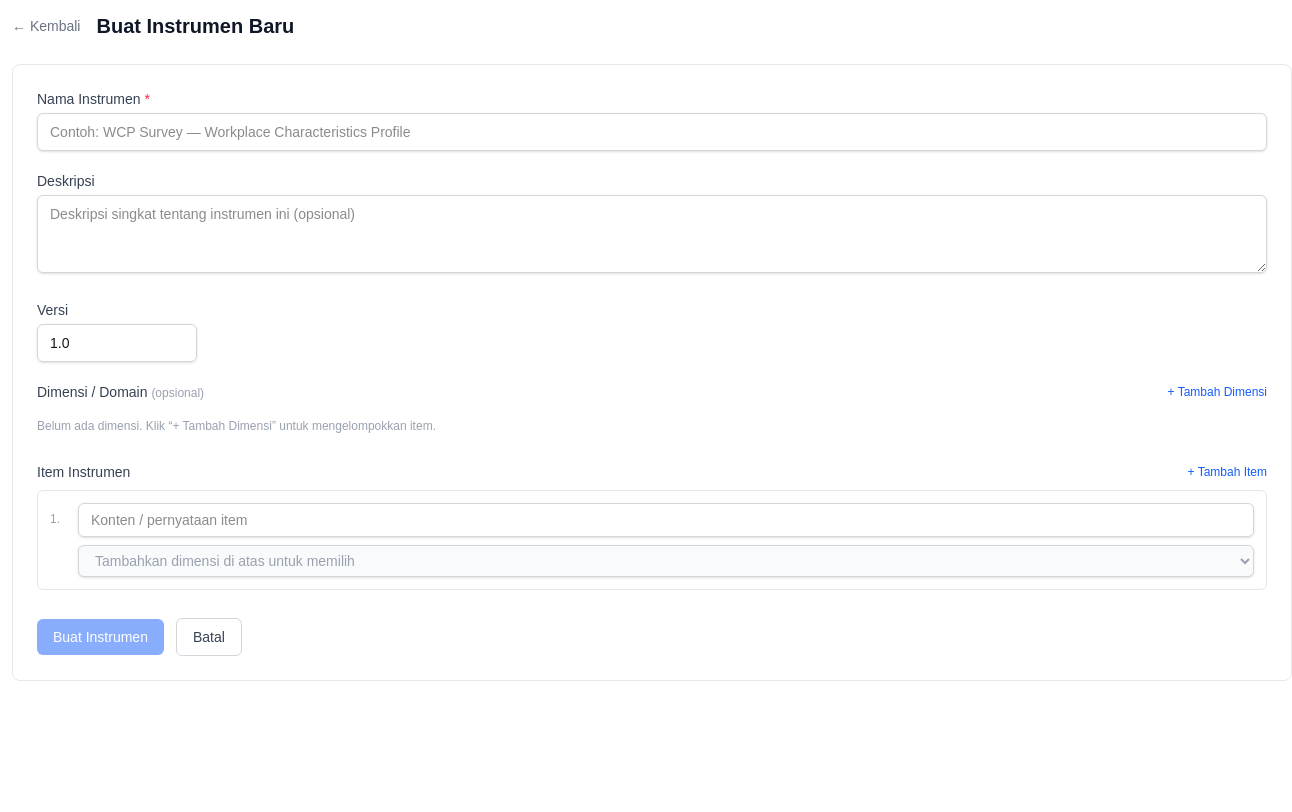
NewInstrumentPage › harus menampilkan error jika pembuatan item gagal (step 3)
Type "Instrumen #1" into the field labelled "Nama Instrumen *" at (652,132), box 37,113 -> 1267,151
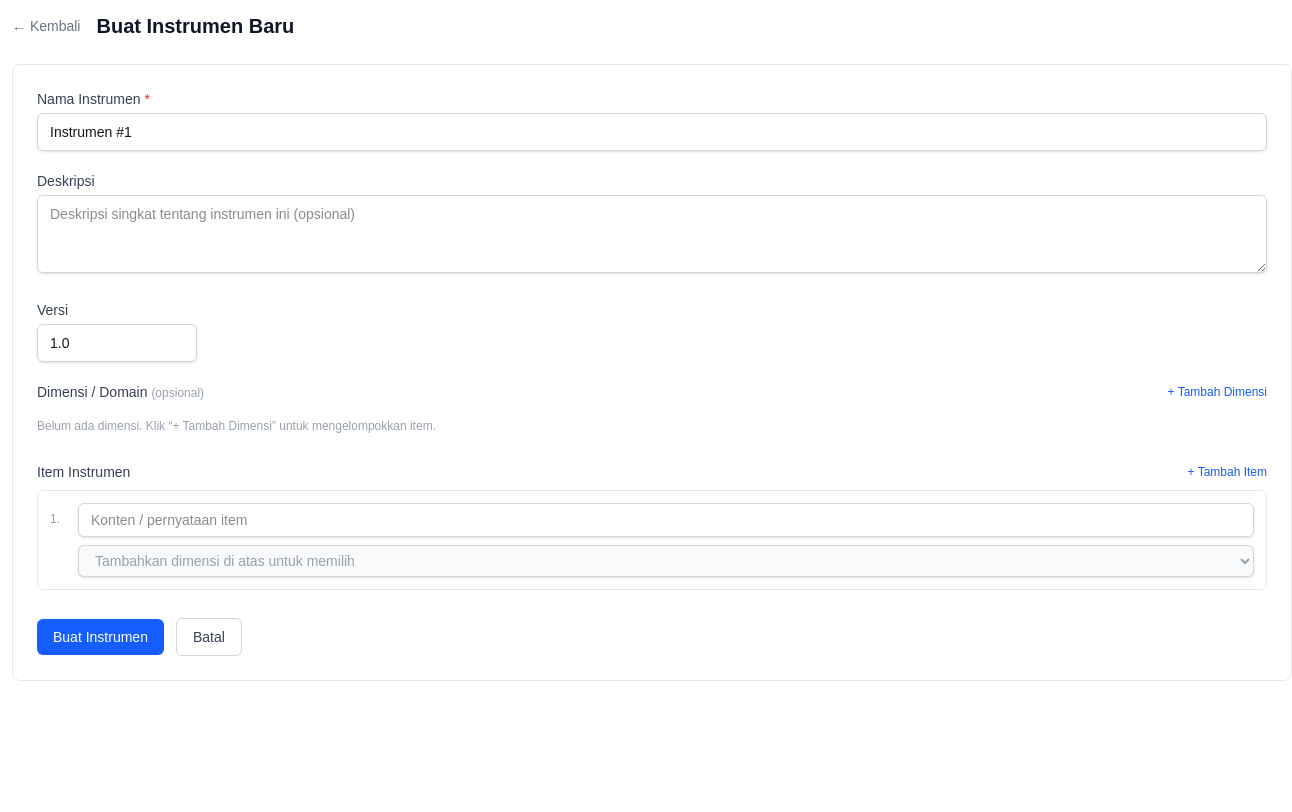
Isi item default (placeholder: "Konten / pernyataan item")
Type "Item 1" into the field with placeholder "Konten / pernyataan item" at (666,520), box 78,503 -> 1254,537
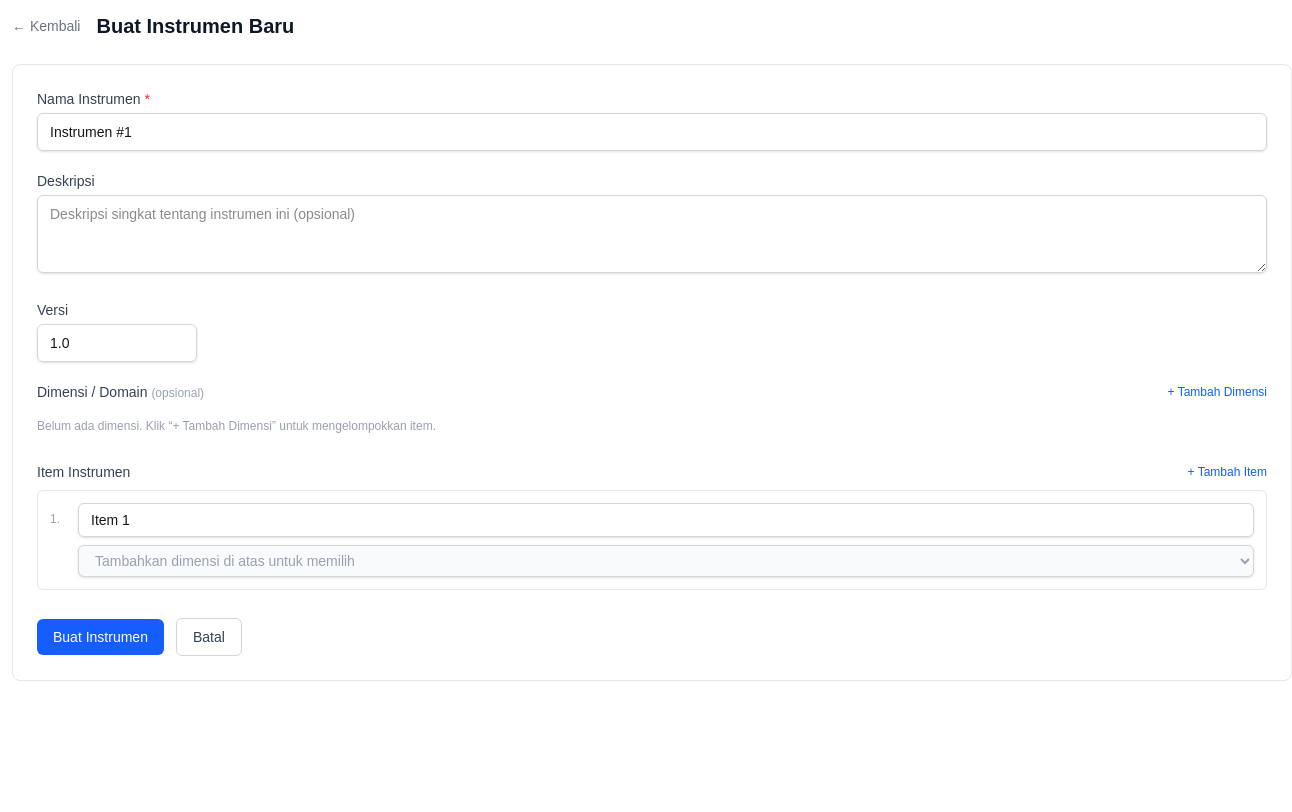
Click the button "Buat Instrumen" at (100,637), box 37,619 -> 164,655
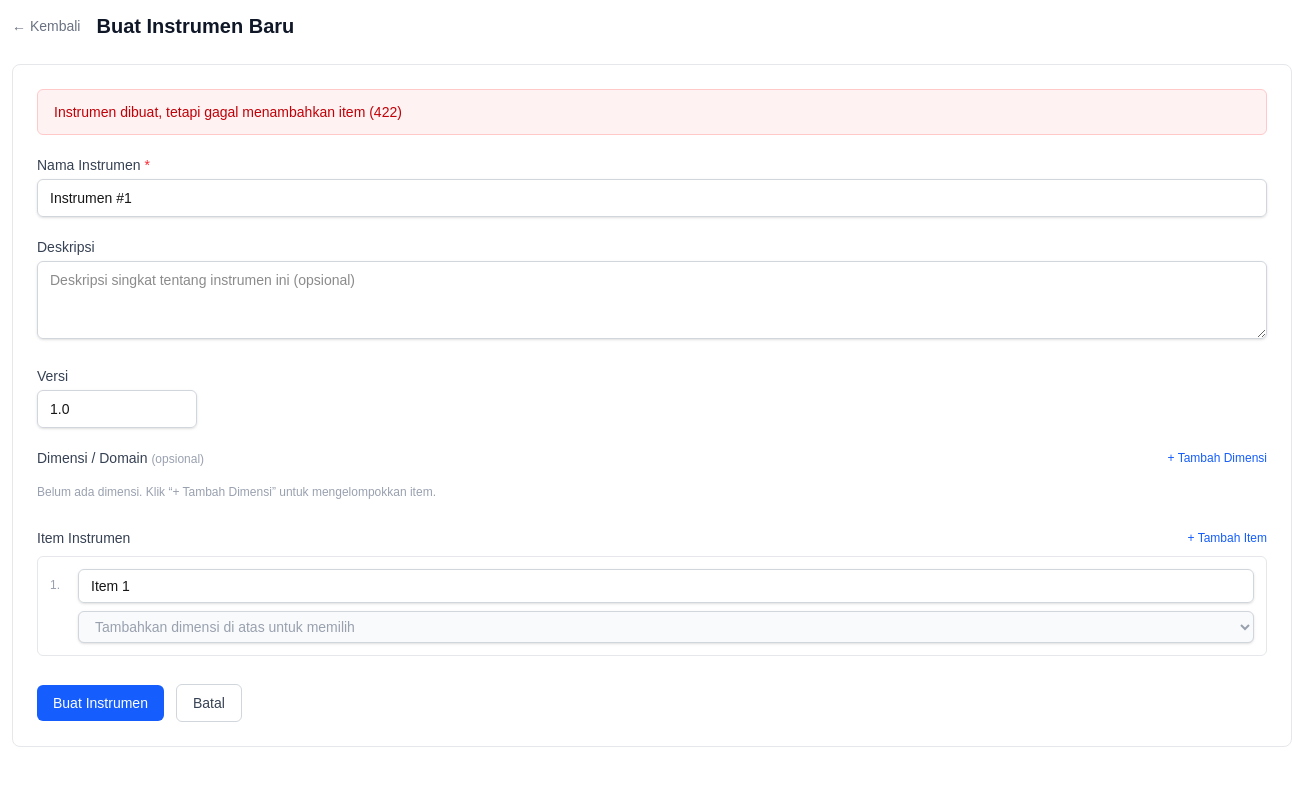
Check: the text "Instrumen dibuat, tetapi gagal menambahkan item (422)" is shown, box 37,89 -> 1267,135
